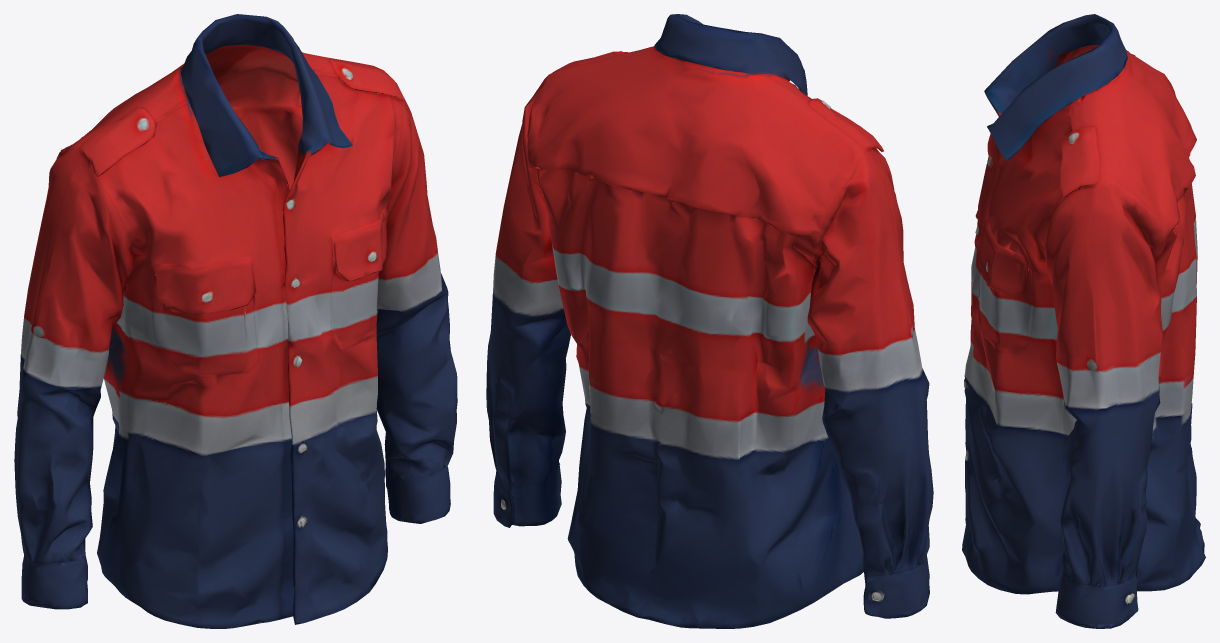
File: ks-002-mini.glb
The picture shows the model from 3 angles, left to right: view 1: azimuth 30°, elevation 25°; view 2: azimuth 150°, elevation 25°; view 3: azimuth 270°, elevation 25°; orthographic projection. The views are drawn at different scales.
Visible parts, largest first — view 1: tripo_node_f513de4d-fd35-48b0-b5de-85d22d6ad0f8; view 2: tripo_node_f513de4d-fd35-48b0-b5de-85d22d6ad0f8; view 3: tripo_node_f513de4d-fd35-48b0-b5de-85d22d6ad0f8.
Part boxes in pixels (x1=…): tripo_node_f513de4d-fd35-48b0-b5de-85d22d6ad0f8: x1=14, y1=14, x2=457, y2=628; tripo_node_f513de4d-fd35-48b0-b5de-85d22d6ad0f8: x1=486, y1=14, x2=933, y2=628; tripo_node_f513de4d-fd35-48b0-b5de-85d22d6ad0f8: x1=962, y1=14, x2=1205, y2=628.
Bounding box in the file's own units: 0.8096 × 0.9812 × 0.4124.
1 material, 1 textured.
